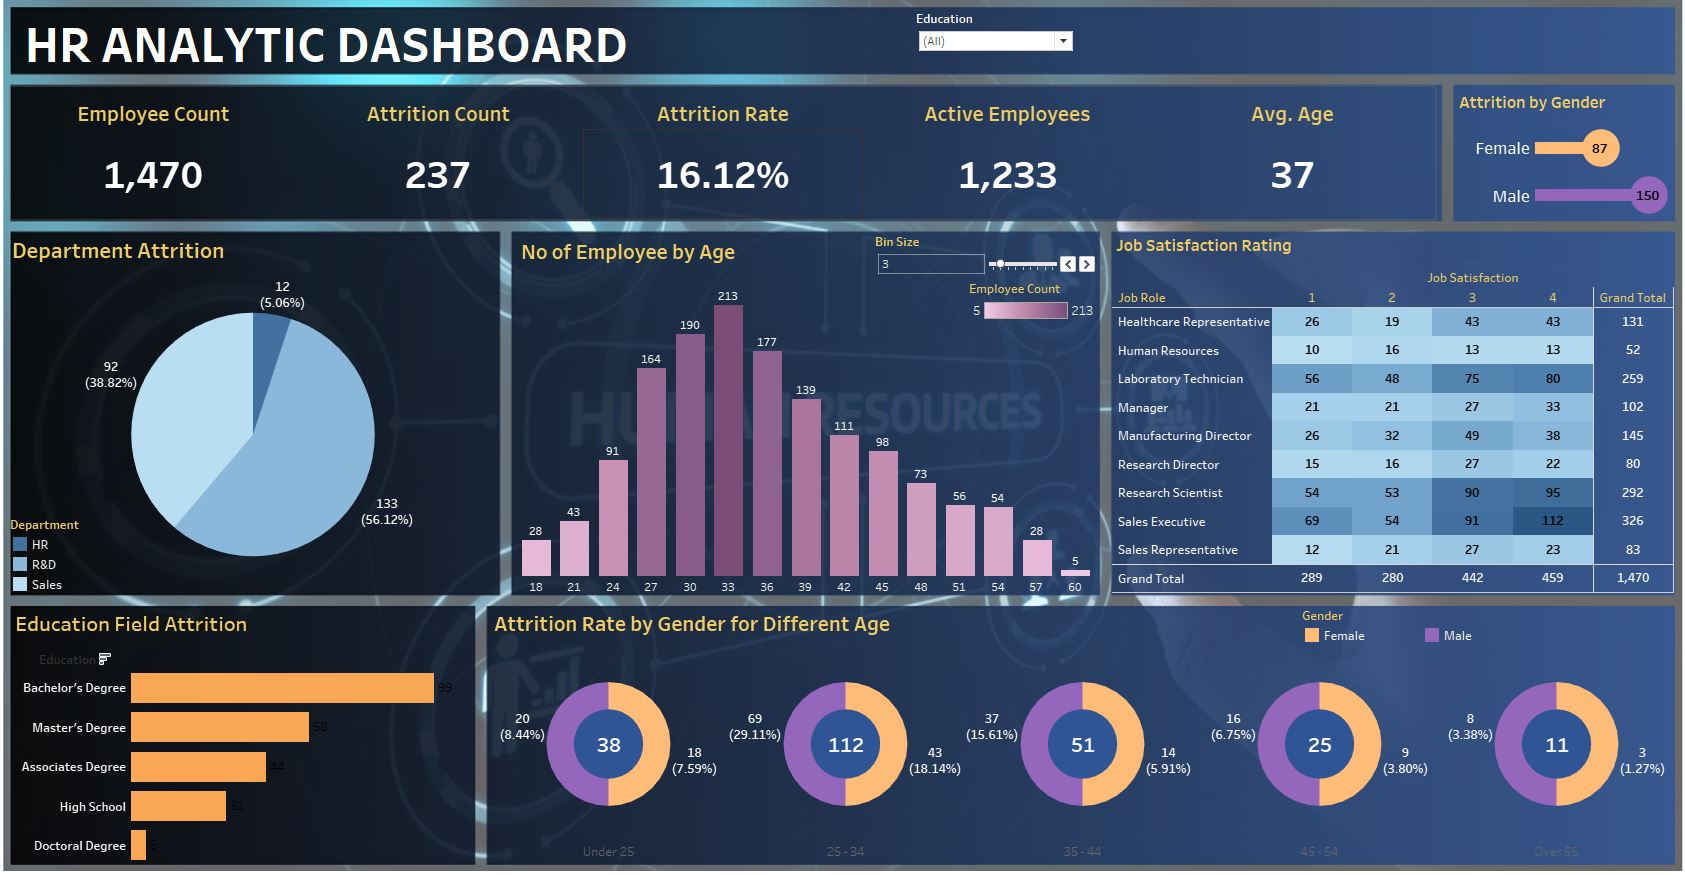

The dashboard page shown, as its layout file describes it:
{"tool":"tableau","page":{"name":"Dashboard 2","canvas":[1000,1000],"units":"permille","ordinal":0},"visuals":[{"type":"image","param":"Image/HR background 4.png","box":[4.7,8.8,990.6,982.3]},{"type":"filter","title":"Dept Attrition","param":"[federated.0i4qneo1k88x661dnje5a1v11m0h].[none:Education:nk]","box":[542.4,28.8,93.6,67.5]},{"type":"text","box":[19.3,29.9,395,69.7]},{"type":"worksheet","title":"KPI","mark":"Automatic","box":[12.9,113.9,833.2,146]},{"type":"worksheet","title":"Attrition by Gender","mark":"Circle","rows":["Gender"],"cols":["Calculation_502714366075256832","Calculation_502714366075256832"],"box":[857.8,113.9,128.2,146]},{"type":"worksheet","title":"Job Satisfaction Rating","mark":"Square","rows":["Job Role"],"cols":["Job Satisfaction"],"box":[657.1,272.1,328.9,401.6]},{"type":"worksheet","title":"Dept Attrition","mark":"Pie","box":[11.1,273.2,286.7,401.6]},{"type":"worksheet","title":"No of Employee by Age","mark":"Automatic","rows":["Employee Count"],"cols":["Age (bin)"],"box":[308.9,275.4,338.2,401.6]},{"type":"parameter","param":"[Parameters].[Parameter 1]","box":[518.4,275.4,130.5,49.8]},{"type":"legend","title":"No of Employee by Age","param":"[federated.0i4qneo1k88x661dnje5a1v11m0h].[sum:Employee Count:qk]","box":[573.4,327.4,75.5,62]},{"type":"legend","title":"Dept Attrition","param":"[federated.0i4qneo1k88x661dnje5a1v11m0h].[none:Department:nk]","box":[12.3,588.5,72,86.3]},{"type":"worksheet","title":"Education Field Attrition","mark":"Automatic","rows":["Education"],"cols":["Calculation_502714366075256832"],"box":[12.9,687,270.9,287.6]},{"type":"worksheet","title":"Attrition Rate by Gender for Different Age","mark":"Pie","rows":["Calculation_502714366140207107","Calculation_502714366140207107"],"cols":["CF_age band"],"box":[293.2,687,693.4,283.2]},{"type":"legend","title":"Attrition Rate by Gender for Different Age","param":"[federated.0i4qneo1k88x661dnje5a1v11m0h].[none:Gender:nk]","box":[768.3,689.2,217.7,45.4]}]}

Visuals, with their boxes on the dashboard's canvas, which has no fixed pixel size, in thousandths of its width and height (x1, y1, x2, y2). These are canvas units, not pixel positions in the 1685x875 screenshot, which may show the page scaled, cropped or inside an application window:
image: left=5, top=9, right=995, bottom=991
"Dept Attrition" filter: left=542, top=29, right=636, bottom=96
text: left=19, top=30, right=414, bottom=100
"KPI" worksheet: left=13, top=114, right=846, bottom=260
"Attrition by Gender" worksheet (Circle marks): left=858, top=114, right=986, bottom=260
"Job Satisfaction Rating" worksheet (Square marks): left=657, top=272, right=986, bottom=674
"Dept Attrition" worksheet (Pie marks): left=11, top=273, right=298, bottom=675
"No of Employee by Age" worksheet: left=309, top=275, right=647, bottom=677
parameter: left=518, top=275, right=649, bottom=325
"No of Employee by Age" legend: left=573, top=327, right=649, bottom=389
"Dept Attrition" legend: left=12, top=588, right=84, bottom=675
"Education Field Attrition" worksheet: left=13, top=687, right=284, bottom=975
"Attrition Rate by Gender for Different Age" worksheet (Pie marks): left=293, top=687, right=987, bottom=970
"Attrition Rate by Gender for Different Age" legend: left=768, top=689, right=986, bottom=735
